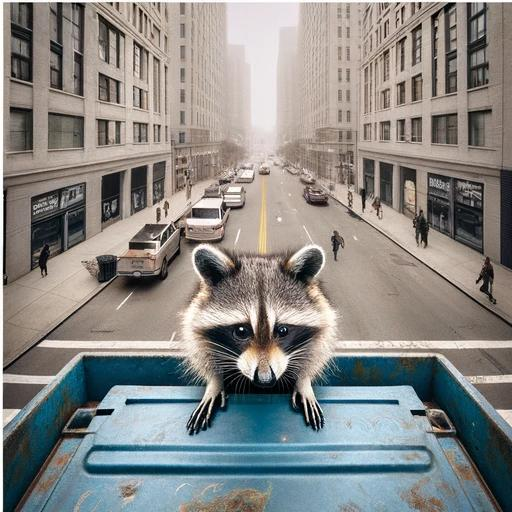raccoon: (165, 233, 354, 441)
